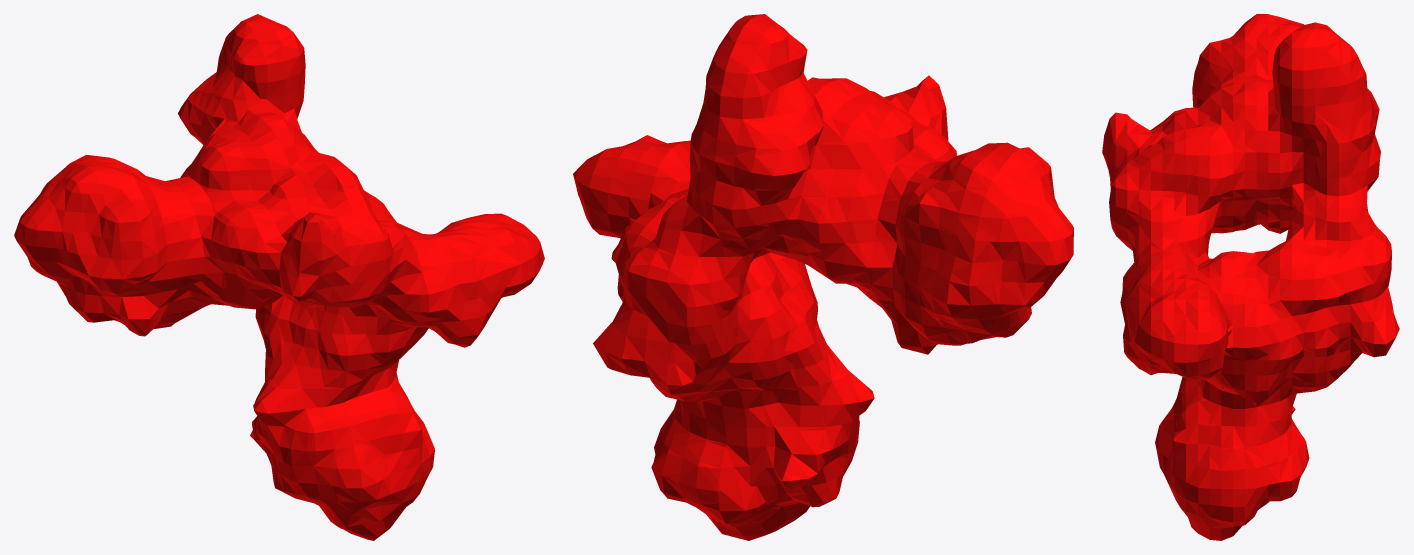
The model's file is Vitamin_K_dependent_protein_S_coarse.dae.
3 views of the same model, side by side, from view 1: azimuth 30°, elevation 25°; view 2: azimuth 150°, elevation 25°; view 3: azimuth 270°, elevation 25° (orthographic). The views are drawn at different scales.
Parts seen in each view (by area): view 1: Vitamin_K_dependent_protein_S; view 2: Vitamin_K_dependent_protein_S; view 3: Vitamin_K_dependent_protein_S.
Part boxes in pixels (<box>): Vitamin_K_dependent_protein_S: <box>14,14,544,540</box>; Vitamin_K_dependent_protein_S: <box>573,14,1073,540</box>; Vitamin_K_dependent_protein_S: <box>1102,14,1399,540</box>.
Bounding box in the file's own units: 135 × 137 × 76.06.
